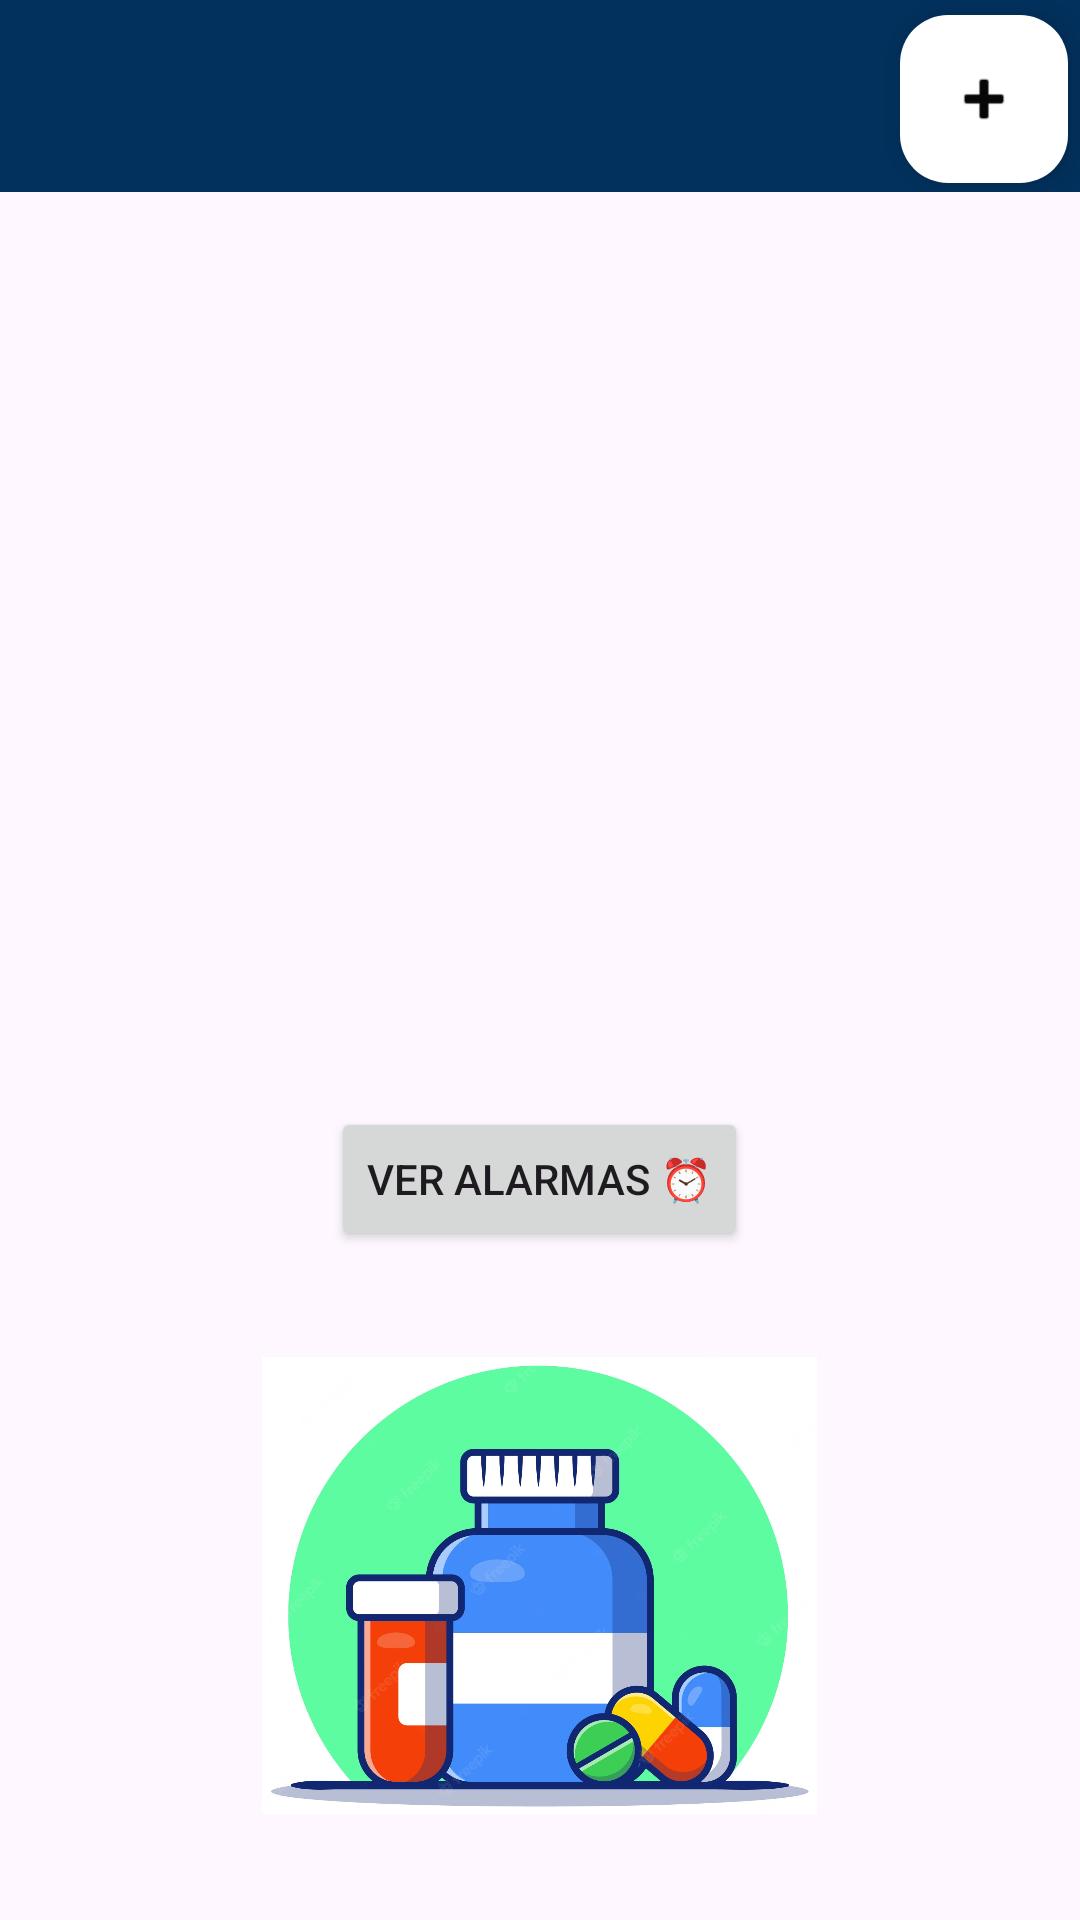

Locate icon controls on the screen. Image size 1080x1920, boxes as (x1,y1,x2,y2).
add: (900,15,1068,183)
